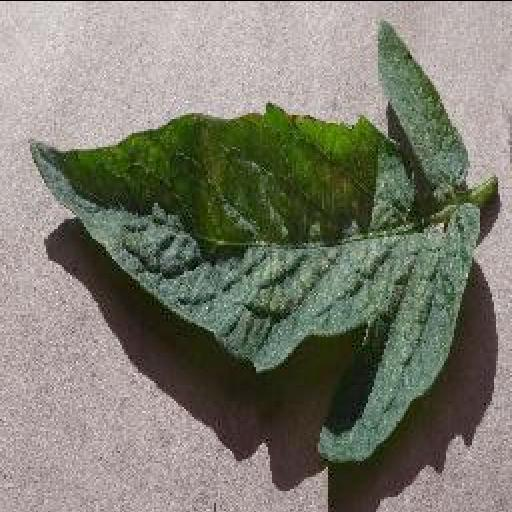disease_tomato: (24, 22, 484, 464)
